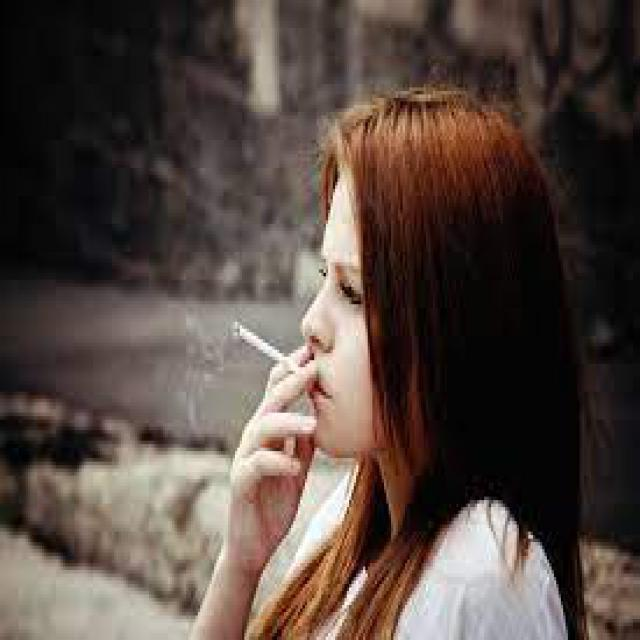cigarette: (228, 321, 312, 376)
